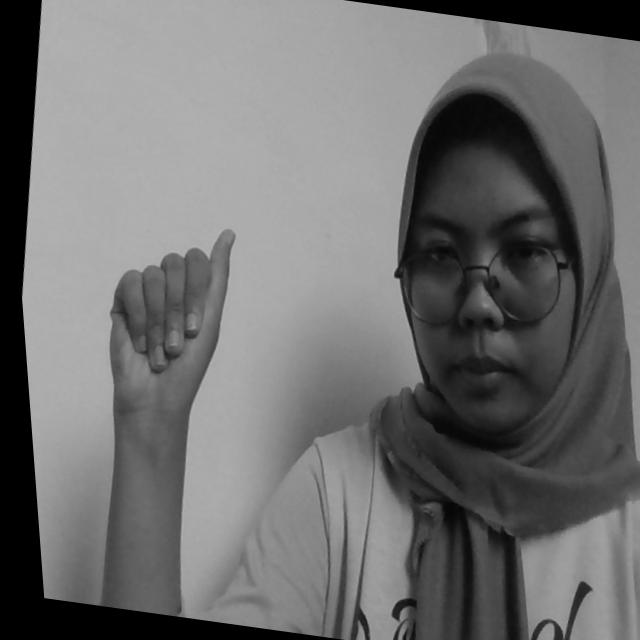A: (87, 213, 245, 419)
